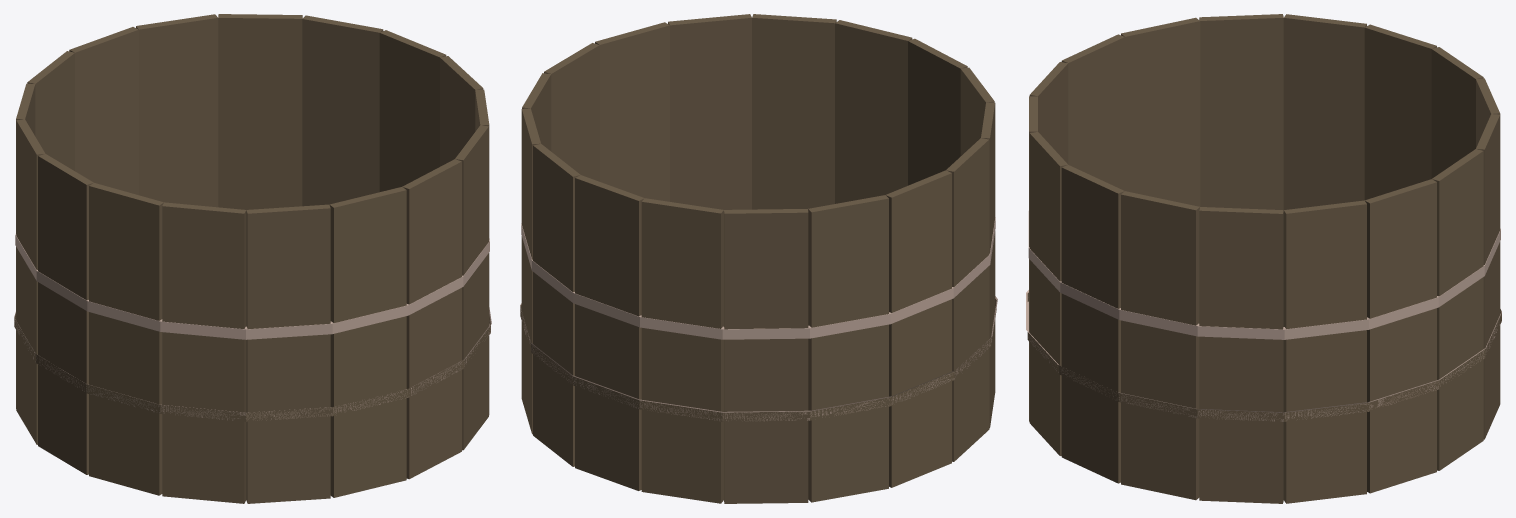
The model's file is Cubo.fbx.
3 views of the same model, side by side, from view 1: azimuth 30°, elevation 25°; view 2: azimuth 150°, elevation 25°; view 3: azimuth 270°, elevation 25° (orthographic).
Parts seen in each view (by area): view 1: Cubo; view 2: Cubo; view 3: Cubo.
Boxes of the visible parts, bbox=[...] form: Cubo: bbox=[14, 14, 491, 503]; Cubo: bbox=[520, 14, 997, 503]; Cubo: bbox=[1026, 14, 1501, 503].
Bounding box in the file's own units: 209 × 140 × 208.
